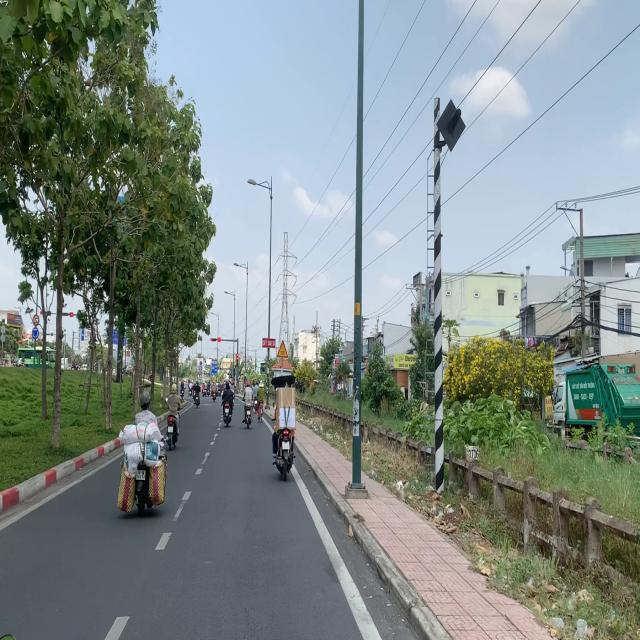Nguy hiem: (276, 339, 288, 359)
